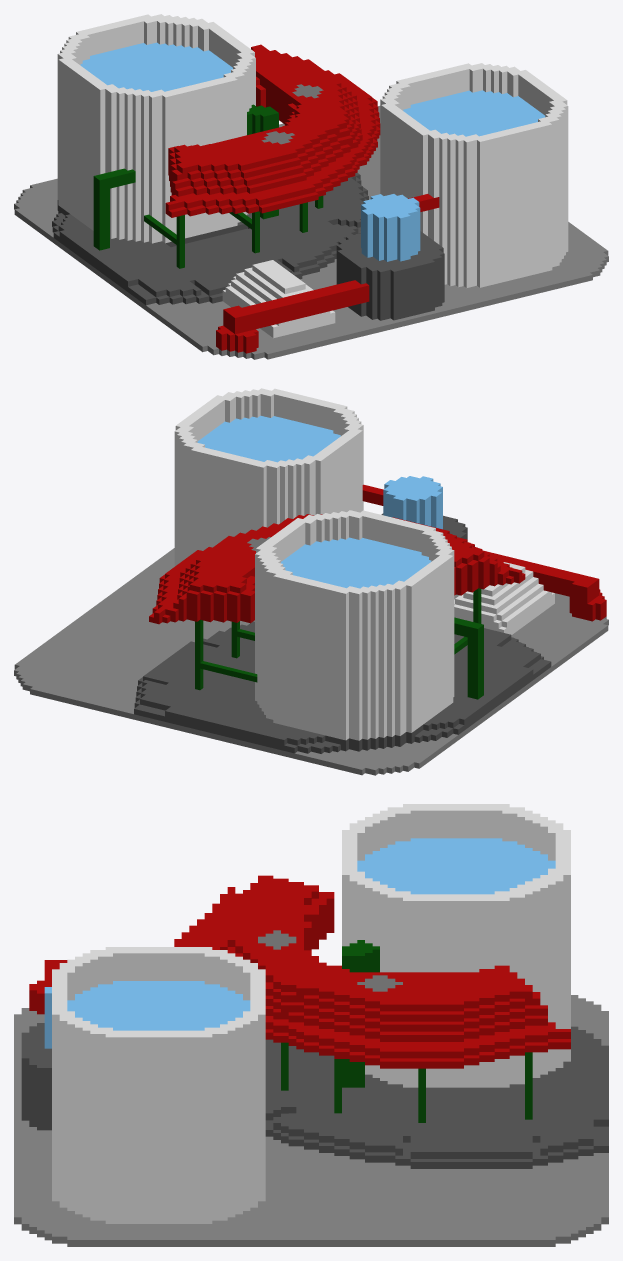
The model's file is NodPowerPlant.obj.
3 renders of one model, top to bottom at view 1: azimuth 30°, elevation 25°; view 2: azimuth 150°, elevation 25°; view 3: azimuth 270°, elevation 25°, orthographic. The views are drawn at different scales.
Bounding box in the file's own units: 7.8 × 3 × 7.8.
Materials: 1 (1 with a texture image).
